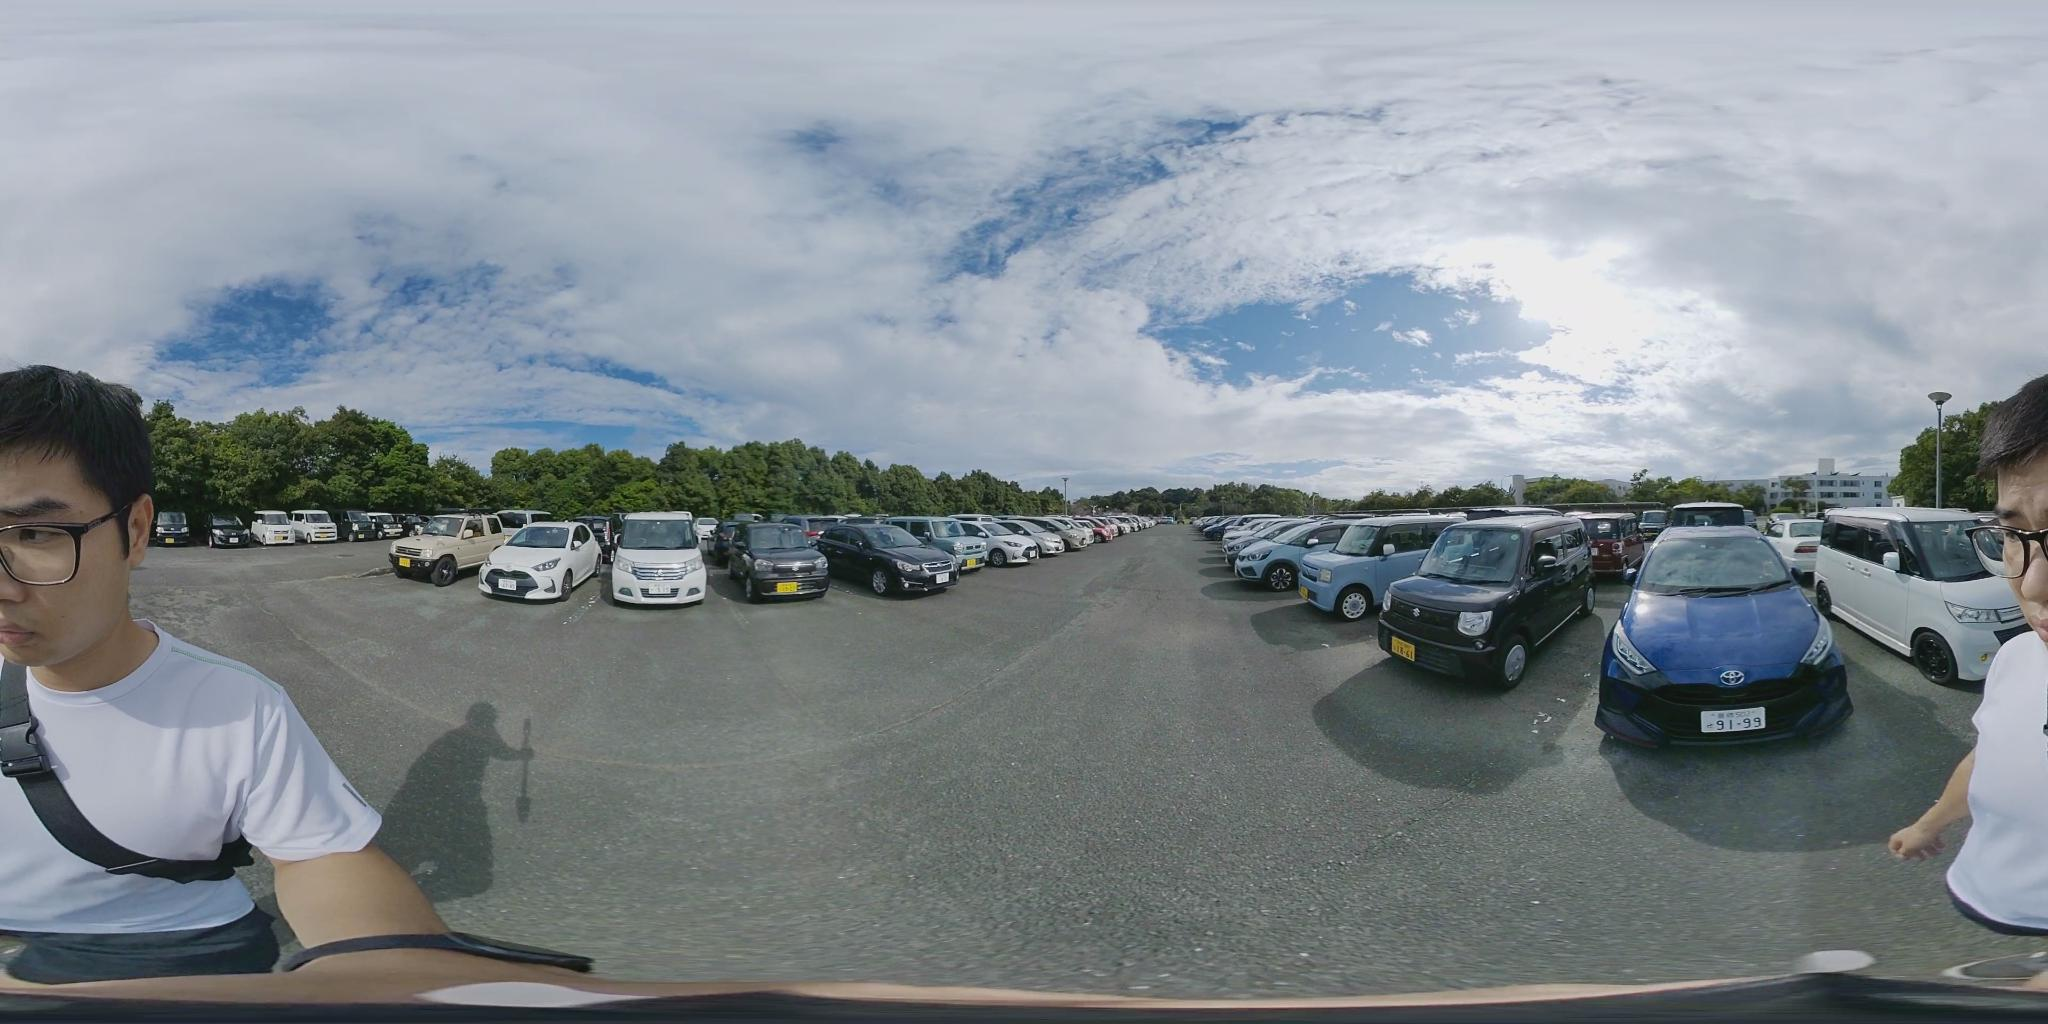car: (1599, 522, 1849, 746), (1296, 520, 1460, 623), (807, 522, 969, 601), (598, 513, 709, 606), (477, 522, 603, 603), (717, 526, 832, 603), (394, 512, 505, 589), (886, 517, 1033, 571), (1226, 521, 1351, 584), (1648, 500, 1768, 547), (956, 519, 1051, 563), (253, 512, 344, 545), (1192, 517, 1281, 546)
